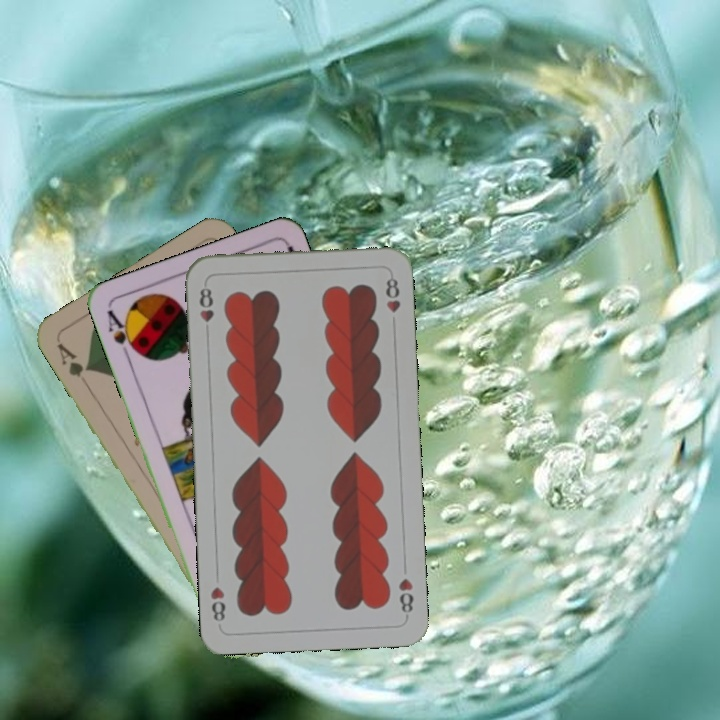GA: (52, 339, 93, 380)
H8: (394, 574, 416, 620), (195, 280, 216, 325)
SA: (102, 305, 142, 362)
